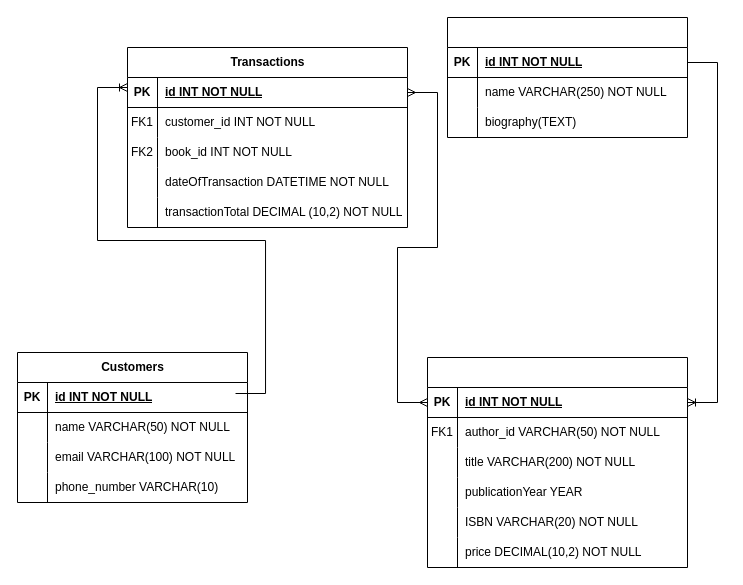
This 743x585 diagram has some shape labels left out. Here are the shapes that lost their labels. From the top down, the box of each, then its label:
(446, 16, 688, 138): Authors
(426, 356, 688, 568): Books
